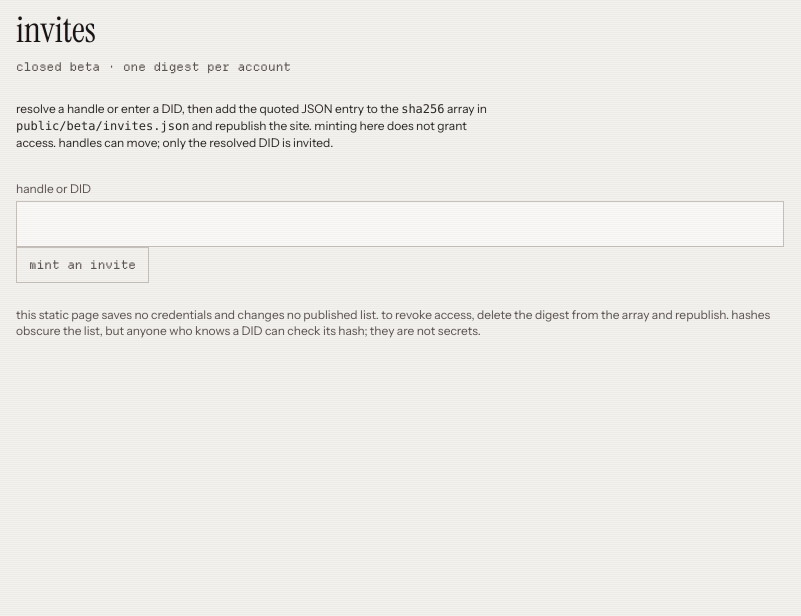
Test: admin invites › accepts a direct DID without a resolver request
Type "did:plc:ym6n47hhl23xcx3hi7qncbh4" into the field labelled "handle or DID" at (400,224), box [16, 201, 784, 247]
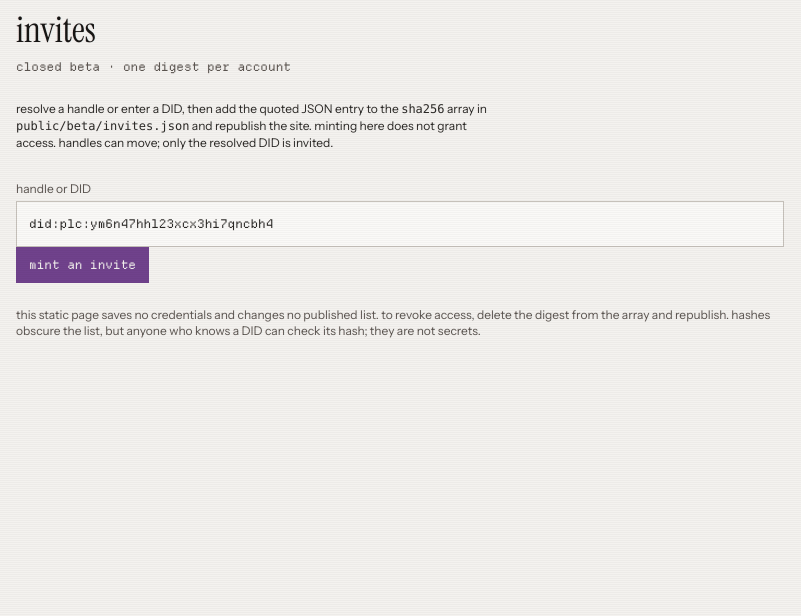
Click the button "mint an invite" at (82,265), box [16, 247, 149, 283]
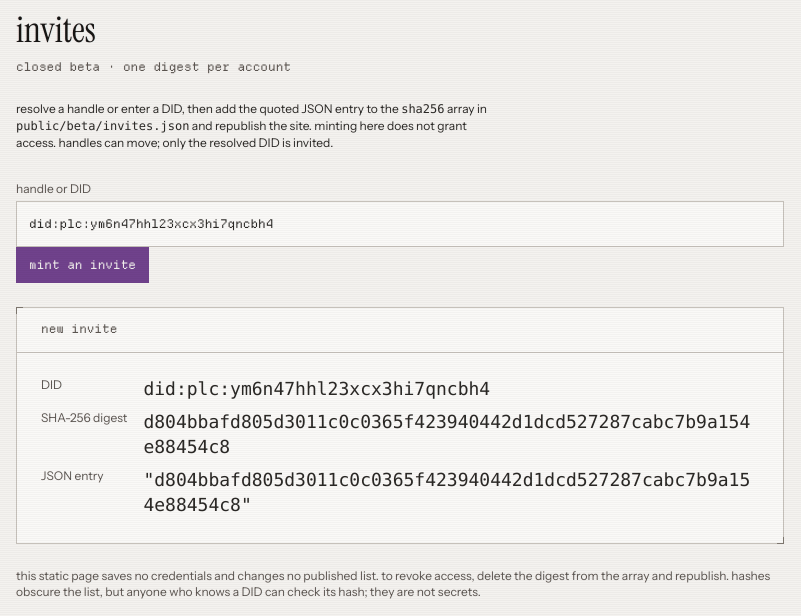
Expected: the element named "invitation digest" reads "d804bbafd805d3011c0c0365f423940442d1dcd527287cabc7b9a154e88454c8", [143, 412, 750, 458]
